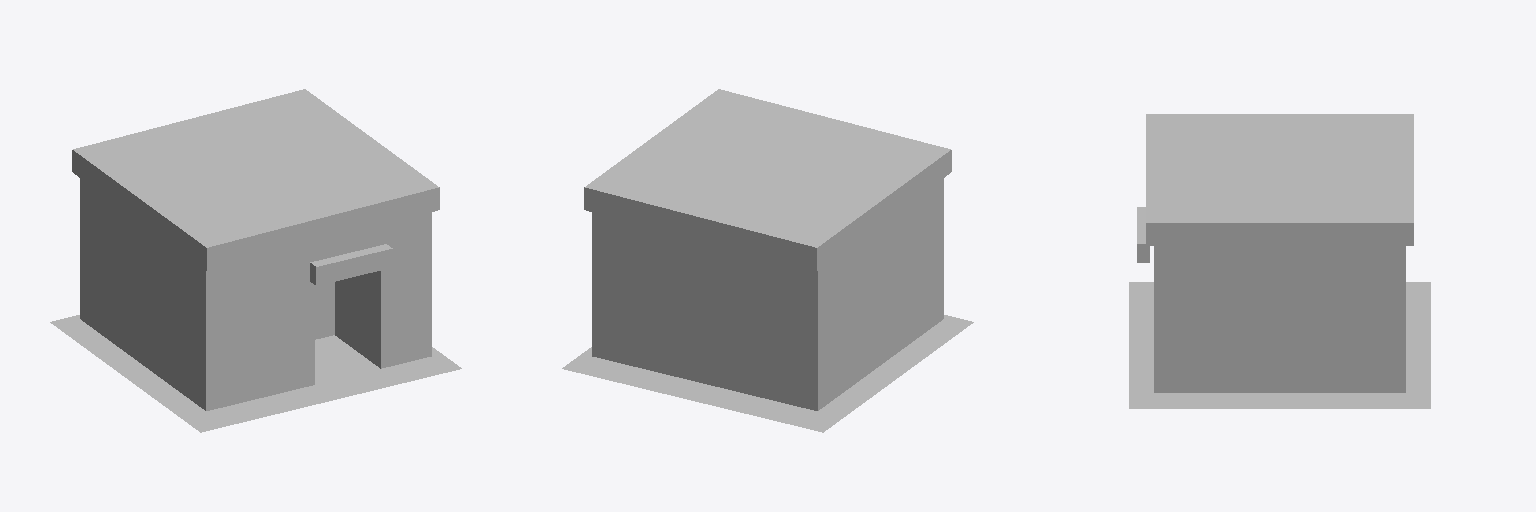
Rendered from Route 4 House.obj.
3 renders of one model, left to right at view 1: azimuth 30°, elevation 25°; view 2: azimuth 150°, elevation 25°; view 3: azimuth 270°, elevation 25°, orthographic.
Parts seen in each view (by area): view 1: polygon3, polygon2, polygon1, polygon0; view 2: polygon3, polygon2; view 3: polygon3, polygon2.
Part boxes in pixels (bbox=[...]): polygon3: bbox=[72, 89, 439, 410]; polygon2: bbox=[50, 315, 461, 432]; polygon1: bbox=[315, 271, 380, 384]; polygon0: bbox=[237, 284, 283, 344]; polygon3: bbox=[584, 89, 951, 410]; polygon2: bbox=[562, 315, 973, 432]; polygon3: bbox=[1137, 114, 1413, 392]; polygon2: bbox=[1129, 282, 1430, 408].
Size of the model in its own units: 72 by 47 by 72.